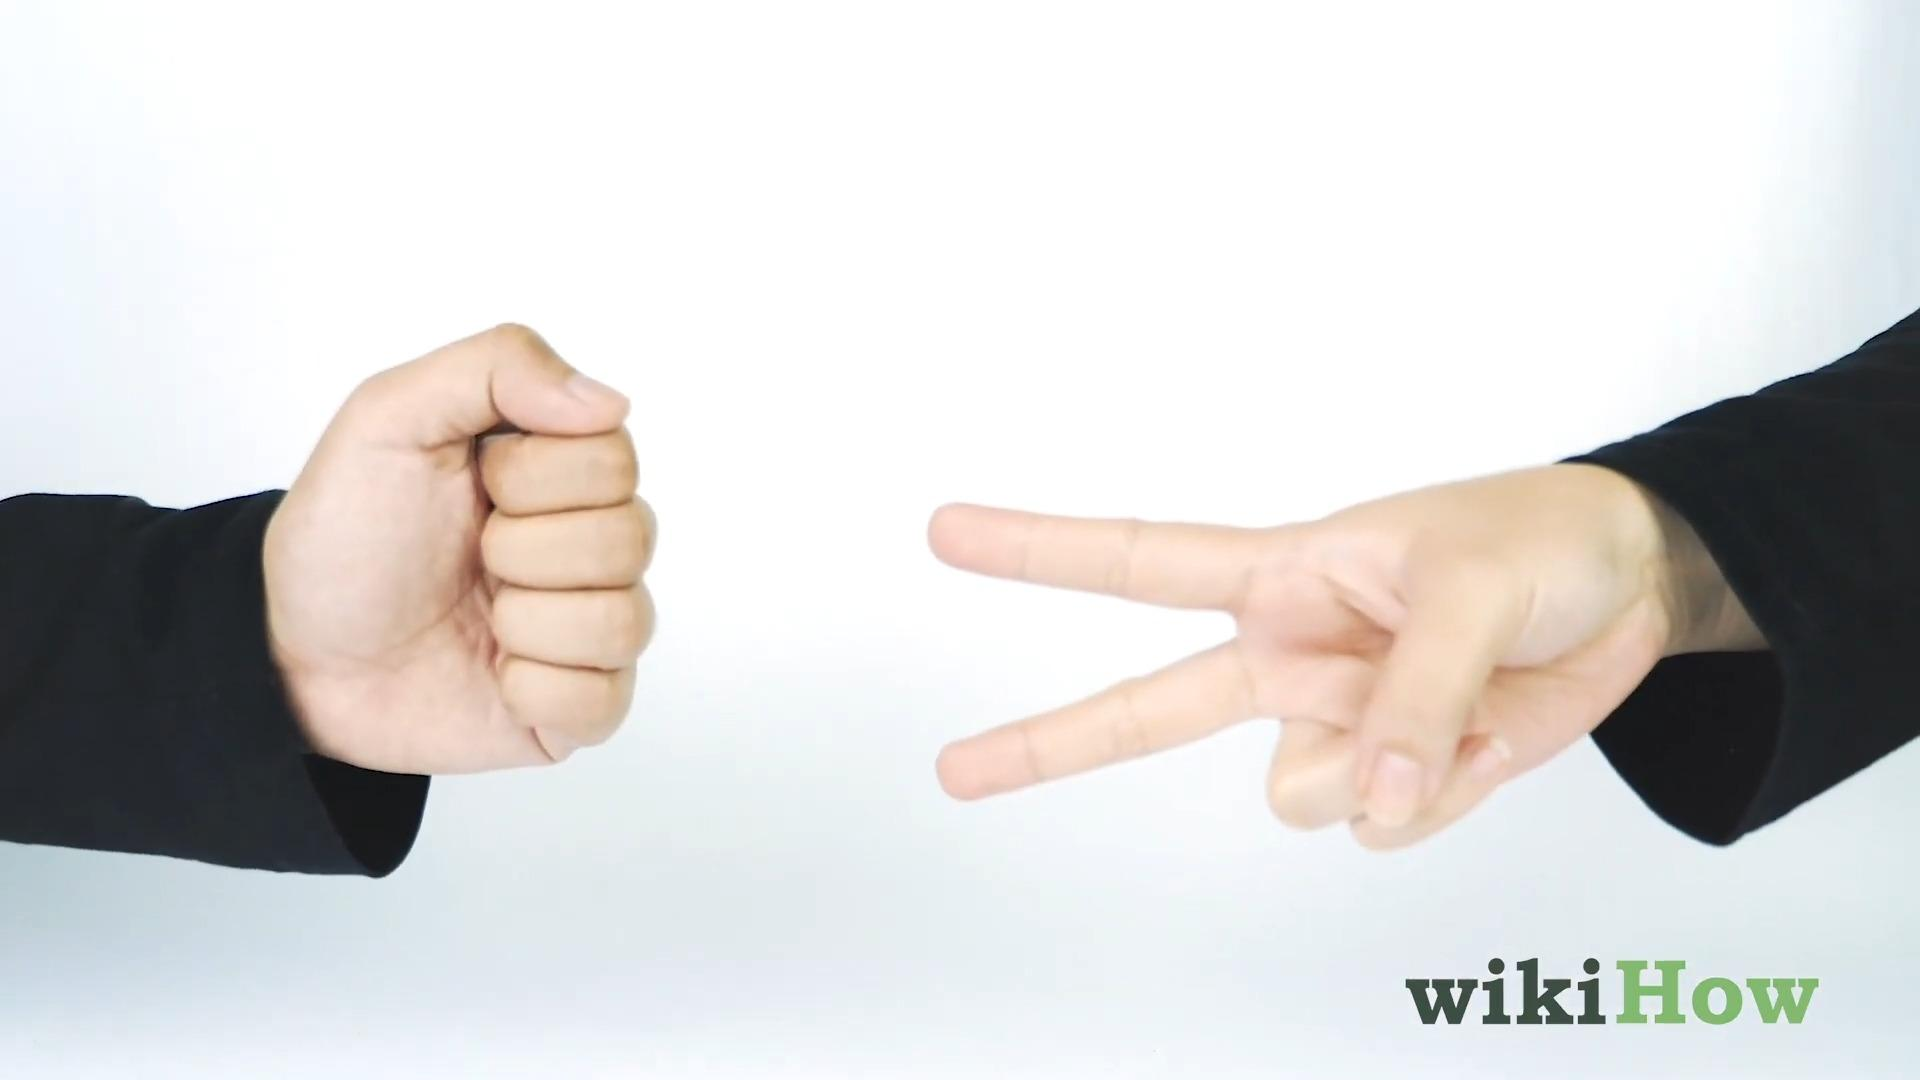Rock: (260, 318, 669, 783)
Scissors: (920, 463, 1672, 851)
